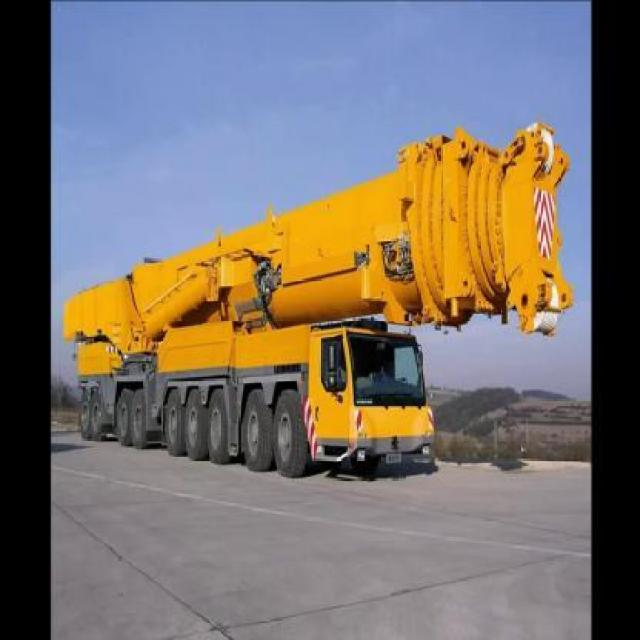Mobile Crane: (60, 121, 575, 481)
